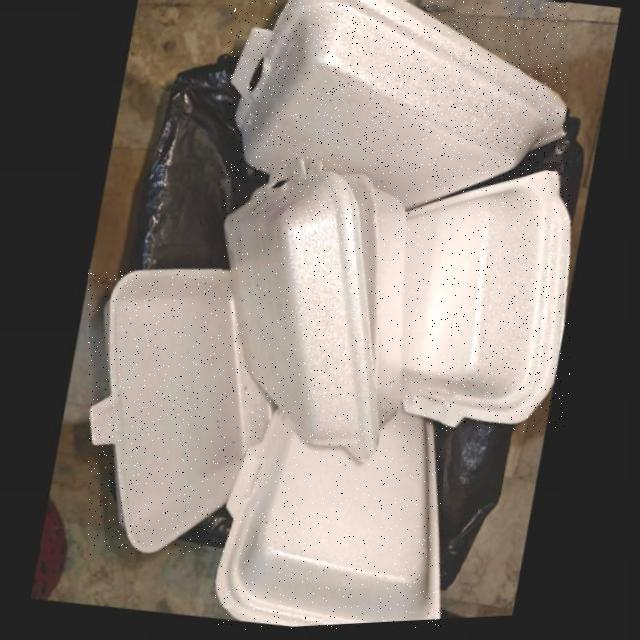styrofoam: (228, 1, 566, 214), (222, 160, 404, 469), (88, 269, 275, 554), (216, 410, 442, 630), (398, 175, 570, 431)
